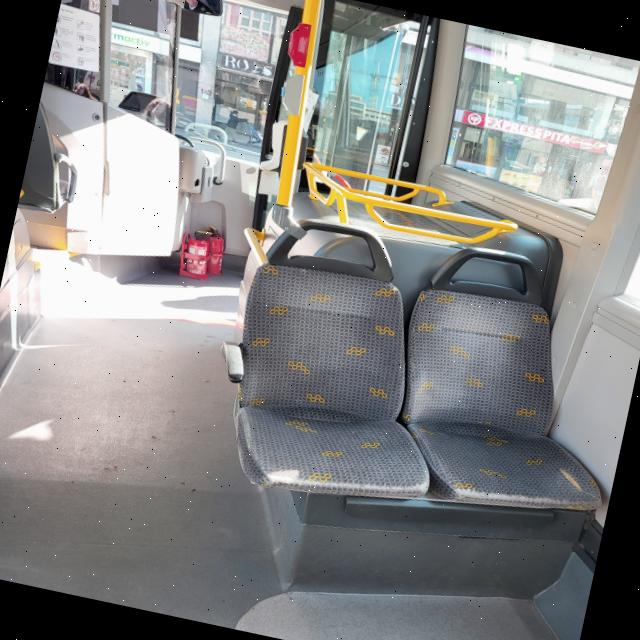empty-seat-frontal: (203, 208, 477, 525), (368, 222, 640, 534)
